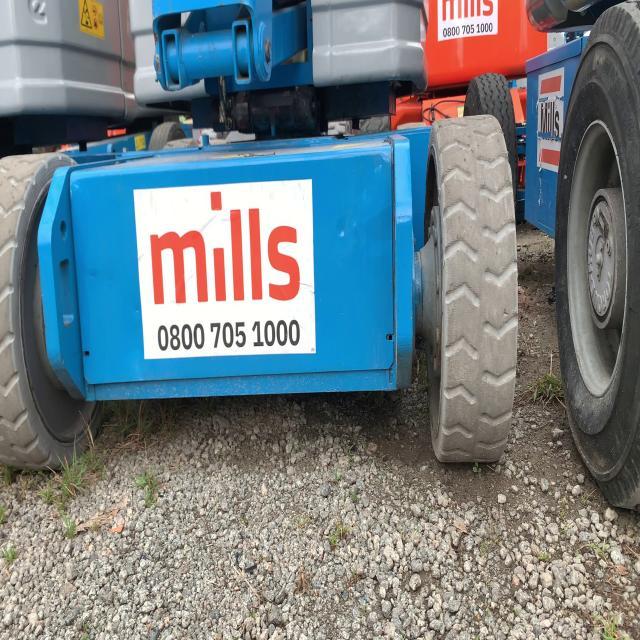Adesivos: (132, 174, 319, 363)
